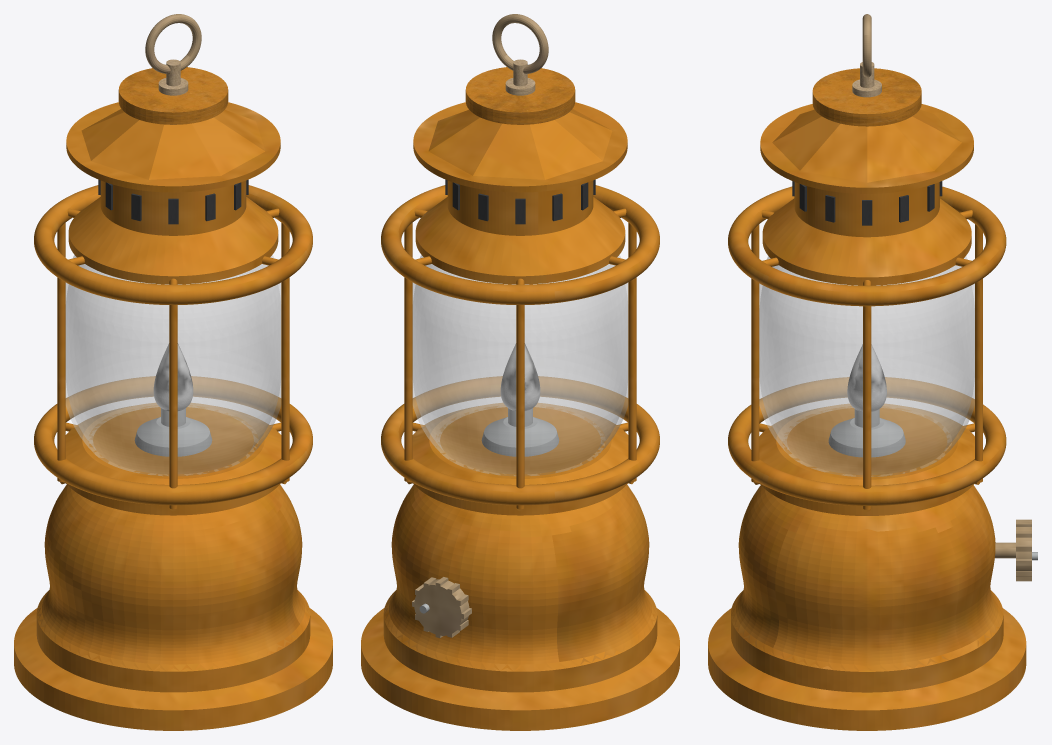
Rendered from Light_Latern__2409.glb.
3 renders of one model, left to right at view 1: azimuth 30°, elevation 25°; view 2: azimuth 150°, elevation 25°; view 3: azimuth 270°, elevation 25°, orthographic.
Visible parts, largest first — view 1: lantern_body::green_body_shell, lantern_body::globe_glass, lantern_body::guard_ring_lower, lantern_body::tent_roof_cap, lantern_body::guard_ring_upper, lantern_body::apex_seat, lantern_body::burner_wick, lantern_body::guard_member_2, lantern_body::guard_member_4, lantern_body::guard_member_3, lantern_body::flame, carry_ring::swivel_ring_wire; view 2: lantern_body::green_body_shell, lantern_body::globe_glass, lantern_body::guard_ring_lower, lantern_body::tent_roof_cap, lantern_body::guard_ring_upper, lantern_body::apex_seat, wick_knob::knob_knurled_disk, lantern_body::burner_wick, lantern_body::guard_member_0, lantern_body::guard_member_2, lantern_body::guard_member_1, lantern_body::flame (+1 smaller); view 3: lantern_body::green_body_shell, lantern_body::globe_glass, lantern_body::guard_ring_lower, lantern_body::tent_roof_cap, lantern_body::guard_ring_upper, lantern_body::apex_seat, lantern_body::burner_wick, lantern_body::guard_member_4, lantern_body::guard_member_5, lantern_body::guard_member_0, lantern_body::flame, wick_knob::knob_knurled_disk (+1 smaller).
Boxes of the visible parts, box(x1,y1,x2,y2) form: lantern_body::green_body_shell: box(14, 102, 332, 730); lantern_body::globe_glass: box(65, 255, 281, 475); lantern_body::guard_ring_lower: box(34, 376, 312, 505); lantern_body::tent_roof_cap: box(81, 108, 265, 179); lantern_body::guard_ring_upper: box(34, 185, 312, 304); lantern_body::apex_seat: box(118, 67, 228, 124); lantern_body::burner_wick: box(134, 408, 212, 456); lantern_body::guard_member_2: box(57, 256, 84, 484); lantern_body::guard_member_4: box(262, 256, 289, 484); lantern_body::guard_member_3: box(169, 278, 177, 511); lantern_body::flame: box(153, 343, 193, 410); carry_ring::swivel_ring_wire: box(145, 14, 201, 73); lantern_body::green_body_shell: box(361, 102, 679, 730); lantern_body::globe_glass: box(412, 255, 628, 475); lantern_body::guard_ring_lower: box(381, 376, 659, 505); lantern_body::tent_roof_cap: box(428, 108, 612, 179); lantern_body::guard_ring_upper: box(381, 185, 659, 304); lantern_body::apex_seat: box(465, 67, 575, 124); wick_knob::knob_knurled_disk: box(412, 577, 471, 637); lantern_body::burner_wick: box(481, 408, 559, 456); lantern_body::guard_member_0: box(404, 256, 431, 484); lantern_body::guard_member_2: box(609, 256, 636, 484); lantern_body::guard_member_1: box(516, 278, 524, 511); lantern_body::flame: box(500, 343, 540, 410); lantern_body::green_body_shell: box(708, 104, 1026, 730); lantern_body::globe_glass: box(759, 256, 974, 476); lantern_body::guard_ring_lower: box(728, 377, 1006, 505); lantern_body::tent_roof_cap: box(772, 109, 961, 182); lantern_body::guard_ring_upper: box(728, 186, 1006, 306); lantern_body::apex_seat: box(812, 68, 921, 126); lantern_body::burner_wick: box(828, 409, 905, 457); lantern_body::guard_member_4: box(751, 257, 778, 484); lantern_body::guard_member_5: box(863, 280, 871, 511); lantern_body::guard_member_0: box(955, 257, 982, 484); lantern_body::flame: box(847, 344, 886, 411); wick_knob::knob_knurled_disk: box(995, 519, 1031, 581).
Size of the model in its own units: 0.14 by 0.314 by 0.1451.
Materials: 6 (5 with a texture image).
